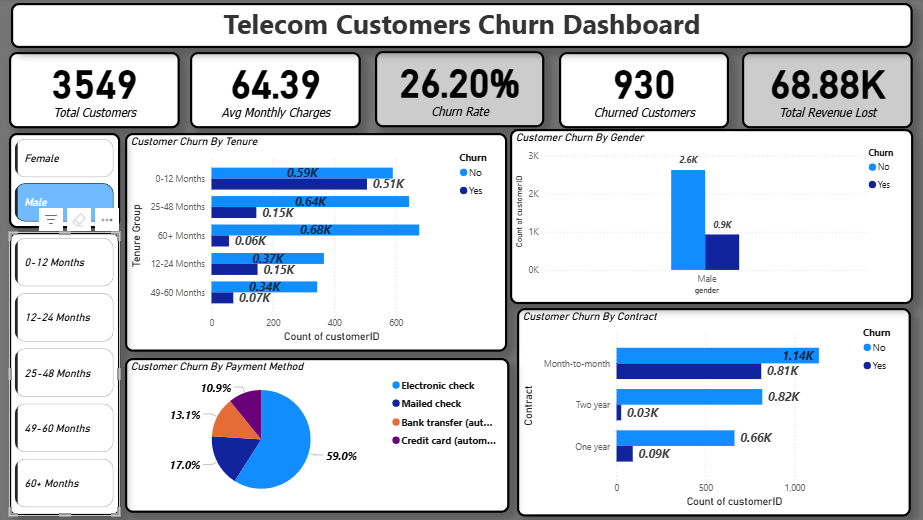

The dashboard page shown, as its layout file describes it:
{"tool":"powerbi","page":{"name":"Page 1","canvas":[1280,720],"ordinal":0},"visuals":[{"type":"card","fields":{"Values":["Telecom Customers Churn.Churn Rate"]},"box":[523,72.9,233,104.6],"z":0},{"type":"card","fields":{"Values":["Telecom Customers Churn.Avg Monthly Charges"]},"box":[268.4,74.3,235.4,104.6],"z":1000},{"type":"card","fields":{"Values":["Telecom Customers Churn.Total Customers"]},"box":[19.3,74.3,235.4,104.6],"z":2000},{"type":"card","fields":{"Values":["Telecom Customers Churn.Total Revenue Lost"]},"box":[1028.1,74.3,235.4,104.6],"z":3000},{"type":"card","fields":{"Values":["Telecom Customers Churn.Churned Customers"]},"box":[776.3,74.3,234,104.6],"z":4000},{"type":"clusteredBarChart","title":"Customer Churn By Contract","fields":{"Series":["Telecom Customers Churn.Churn"],"Y":["CountNonNull(Telecom Customers Churn.customerID)"],"Category":["Telecom Customers Churn.Contract"]},"box":[718.5,426.1,542.2,286.5],"z":5000},{"type":"clusteredBarChart","title":"Customer Churn By Tenure","fields":{"Y":["CountNonNull(Telecom Customers Churn.customerID)"],"Series":["Telecom Customers Churn.Churn"],"Category":["Telecom Customers Churn.Tenure Group"]},"box":[179.3,185.1,526,301.2],"z":6000},{"type":"pieChart","title":"Customer Churn By Payment Method","fields":{"Y":["Telecom Customers Churn.Churned Customers"],"Category":["Telecom Customers Churn.PaymentMethod"]},"box":[179.3,495.2,529,213.1],"z":7000},{"type":"clusteredColumnChart","title":"Customer Churn By Gender","fields":{"Category":["Telecom Customers Churn.gender"],"Series":["Telecom Customers Churn.Churn"],"Y":["CountNonNull(Telecom Customers Churn.customerID)"]},"box":[708.2,180.7,555.4,241],"z":8000},{"type":"advancedSlicerVisual","fields":{"Values":["Telecom Customers Churn.gender"]},"box":[19.1,185.1,152.8,130.8],"z":9000},{"type":"advancedSlicerVisual","fields":{"Values":["Telecom Customers Churn.Tenure Group"]},"box":[19.1,321.8,152.8,390.9],"z":10000},{"type":"textbox","box":[22,6.9,1241.5,61.9],"z":11000}]}

Visuals, with their boxes in screenshot pixels (x1, y1, x2, y2), scaled from the page's 1280x720 canvas onto the 923x520 screenshot:
card - Telecom Customers Churn.Churn Rate: 377, 53, 545, 128
card - Telecom Customers Churn.Avg Monthly Charges: 194, 54, 363, 129
card - Telecom Customers Churn.Total Customers: 14, 54, 184, 129
card - Telecom Customers Churn.Total Revenue Lost: 741, 54, 911, 129
card - Telecom Customers Churn.Churned Customers: 560, 54, 729, 129
"Customer Churn By Contract" clusteredBarChart: 518, 308, 909, 515
"Customer Churn By Tenure" clusteredBarChart: 129, 134, 509, 351
"Customer Churn By Payment Method" pieChart: 129, 358, 511, 512
"Customer Churn By Gender" clusteredColumnChart: 511, 131, 911, 305
advancedSlicerVisual - Telecom Customers Churn.gender: 14, 134, 124, 228
advancedSlicerVisual - Telecom Customers Churn.Tenure Group: 14, 232, 124, 515
textbox: 16, 5, 911, 50
